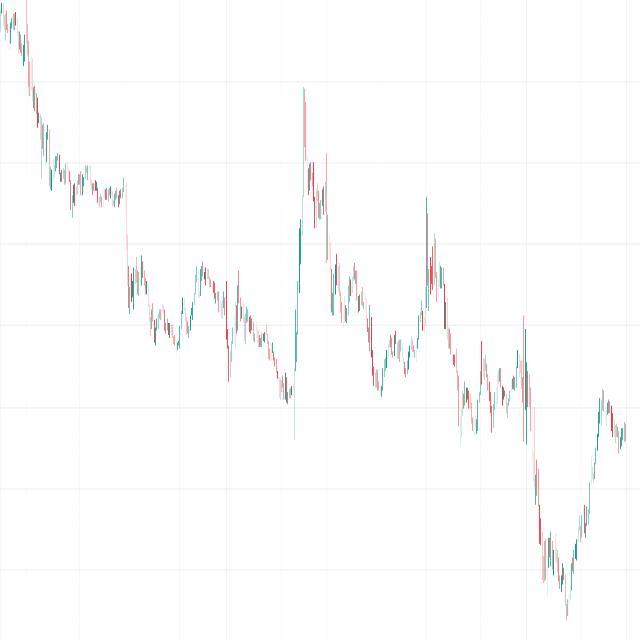Descending-Triangle: (282, 13, 598, 440)
Inverse-Head-Shoulders: (522, 328, 604, 627)
